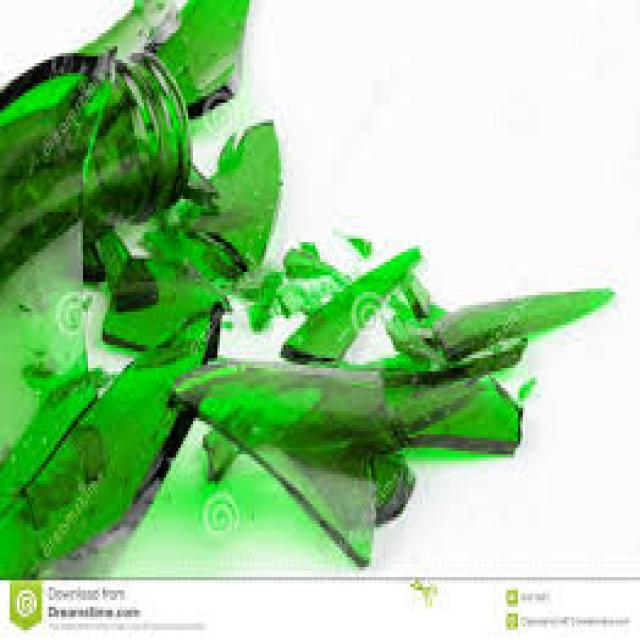Glass: (0, 30, 209, 557), (183, 354, 394, 542)
